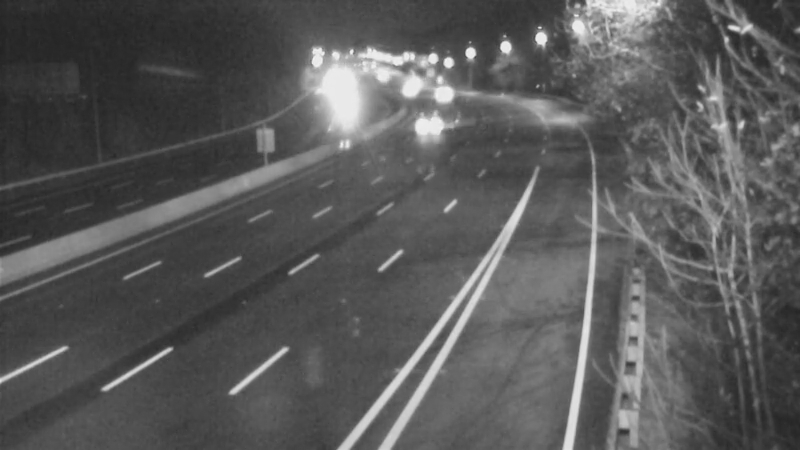vehicle: (356, 52, 406, 102), (381, 61, 431, 111), (416, 67, 466, 117), (407, 102, 457, 152)
